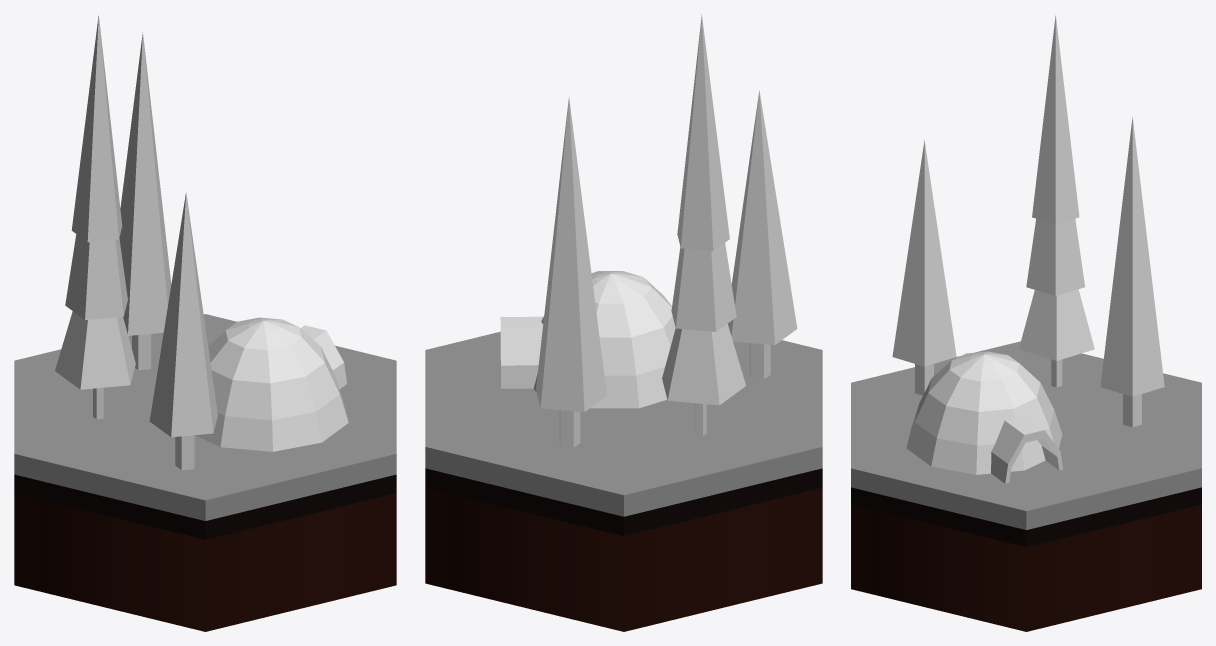
The model's file is iglu.fbx.
3 renders of one model, left to right at view 1: azimuth 30°, elevation 25°; view 2: azimuth 150°, elevation 25°; view 3: azimuth 270°, elevation 25°, orthographic. The views are drawn at different scales.
Visible parts, largest first — view 1: Cylinder001, Cylinder002, Cone002, Cone001, Cone005, Cone003, Cone004, Tube001, Cylinder003, Cylinder004; view 2: Cylinder001, Cone002, Cone001, Cylinder002, Cone005, Cone003, Cone004, Tube001, Cylinder004, Cylinder003; view 3: Cylinder001, Cylinder002, Cone002, Cone001, Cone005, Cone003, Cone004, Tube001, Cylinder004.
Part boxes in pixels (left/top/right/bottom): Cylinder001: left=14, top=314, right=396, bottom=631; Cylinder002: left=195, top=317, right=348, bottom=451; Cone002: left=119, top=32, right=171, bottom=335; Cone001: left=149, top=192, right=217, bottom=437; Cone005: left=71, top=15, right=122, bottom=242; Cone003: left=55, top=311, right=135, bottom=389; Cone004: left=65, top=234, right=127, bottom=319; Tube001: left=300, top=325, right=346, bottom=389; Cylinder003: left=175, top=435, right=195, bottom=470; Cylinder004: left=132, top=334, right=152, bottom=370; Cylinder001: left=425, top=331, right=822, bottom=631; Cone002: left=536, top=97, right=606, bottom=412; Cone001: left=727, top=90, right=797, bottom=345; Cylinder002: left=533, top=271, right=675, bottom=408; Cone005: left=677, top=14, right=729, bottom=251; Cone003: left=662, top=324, right=745, bottom=405; Cone004: left=671, top=243, right=736, bottom=331; Tube001: left=500, top=316, right=543, bottom=388; Cylinder004: left=559, top=410, right=580, bottom=447; Cylinder003: left=749, top=343, right=770, bottom=379; Cylinder001: left=851, top=341, right=1201, bottom=631; Cylinder002: left=906, top=351, right=1062, bottom=474; Cone002: left=1100, top=117, right=1164, bottom=396; Cone001: left=892, top=140, right=956, bottom=366; Cone005: left=1032, top=15, right=1079, bottom=224; Cone003: left=1019, top=289, right=1094, bottom=360; Cone004: left=1026, top=218, right=1084, bottom=296; Tube001: left=991, top=415, right=1063, bottom=483; Cylinder004: left=1123, top=394, right=1141, bottom=427.
Size of the model in its own units: 46.44 by 62.17 by 40.22.
